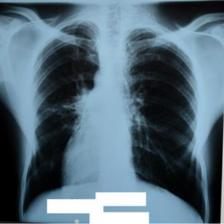tuberculosis: (24, 19, 207, 224)
